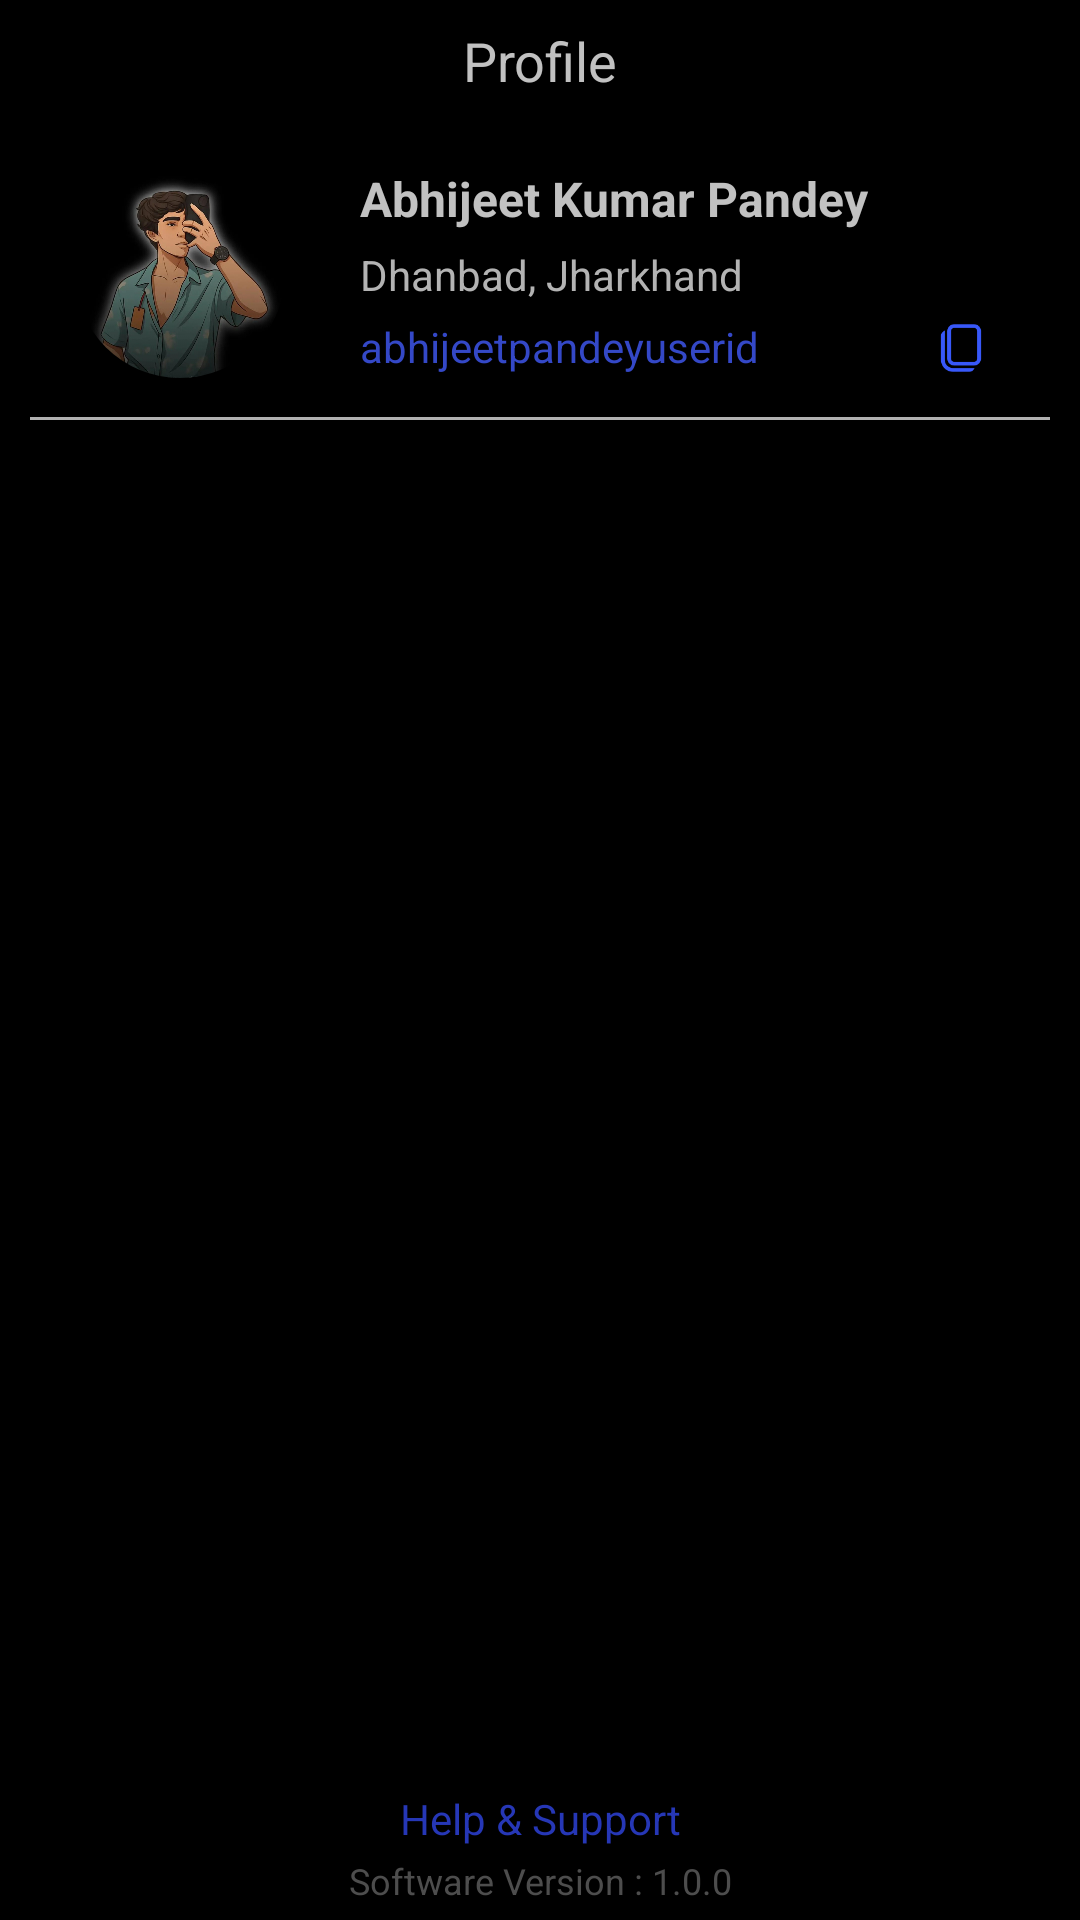

Named icons in this screenshot (1080×1920) and their centers, point (x, y):
profile pic: point (185, 281)
